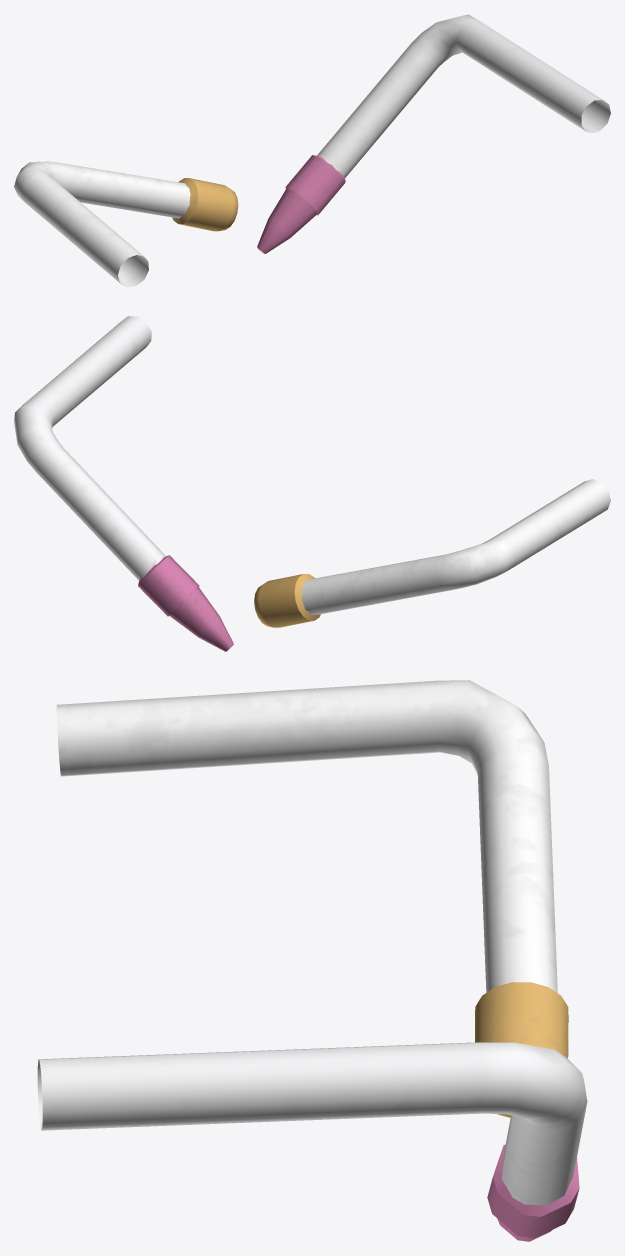
The model's file is ExpLab_MeasureSpouts00.fbx.
3 renders of one model, top to bottom at view 1: azimuth 30°, elevation 25°; view 2: azimuth 150°, elevation 25°; view 3: azimuth 270°, elevation 25°, orthographic. The views are drawn at different scales.
Parts seen in each view (by area): view 1: WaterChemSpout00, FeederSpout00; view 2: WaterChemSpout00, FeederSpout00; view 3: FeederSpout00, WaterChemSpout00.
Part boxes in pixels (<box>): WaterChemSpout00: <box>257,14,610,253</box>; FeederSpout00: <box>14,161,238,287</box>; WaterChemSpout00: <box>14,316,233,651</box>; FeederSpout00: <box>254,479,610,627</box>; FeederSpout00: <box>56,680,568,1117</box>; WaterChemSpout00: <box>37,1042,587,1241</box>.
Size of the model in its own units: 632 by 238 by 307.
1 material, 1 textured.
